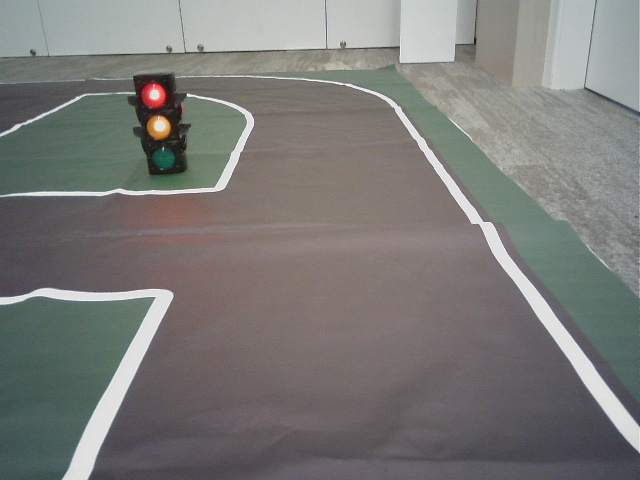red: (139, 79, 179, 175)
